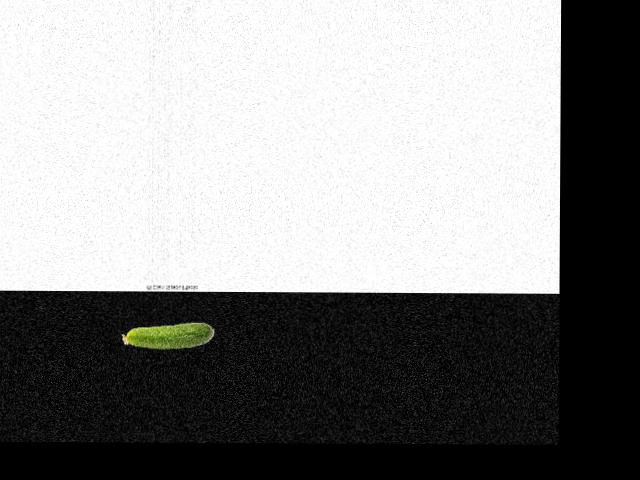cucumber: (122, 322, 214, 349)
